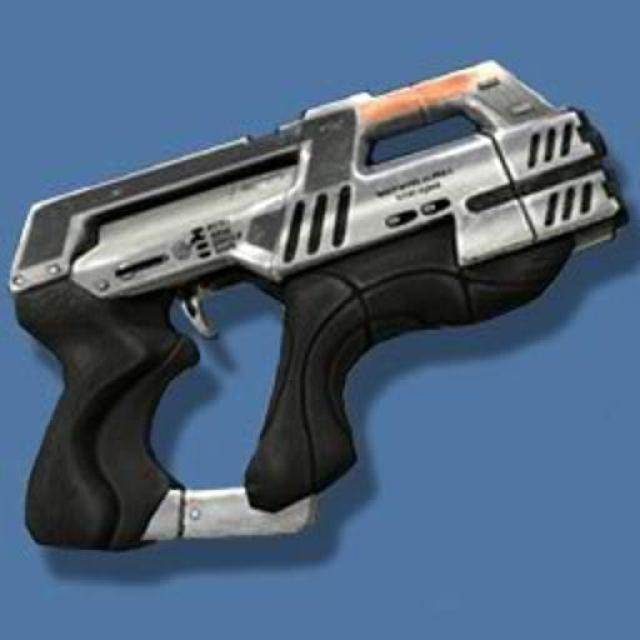pistol: (40, 60, 605, 557)
